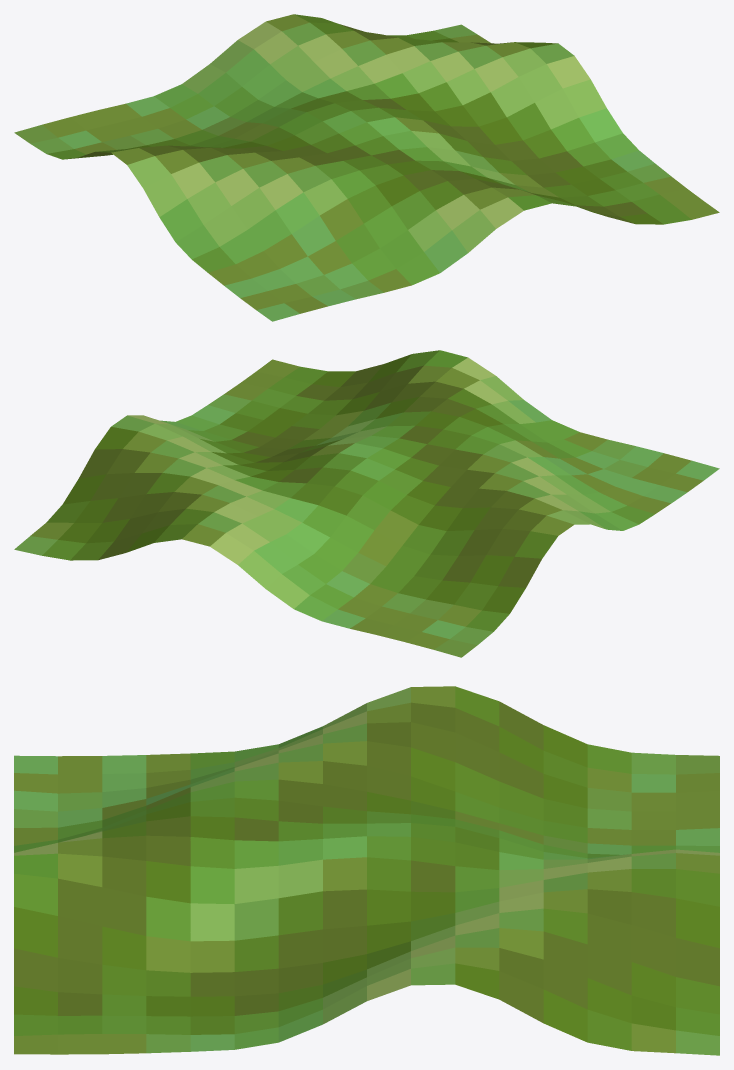
File: hills15.obj
3 views of the same model, one above another, from view 1: azimuth 30°, elevation 25°; view 2: azimuth 150°, elevation 25°; view 3: azimuth 270°, elevation 25° (orthographic). The views are drawn at different scales.
Parts seen in each view (by area): view 1: hills15; view 2: hills15; view 3: hills15.
Part boxes in pixels (<box>): hills15: <box>14,14,719,321</box>; hills15: <box>14,350,719,657</box>; hills15: <box>14,686,719,1055</box>.
Bounding box in the file's own units: 1 × 0.117 × 1.
1 material, 1 textured.
